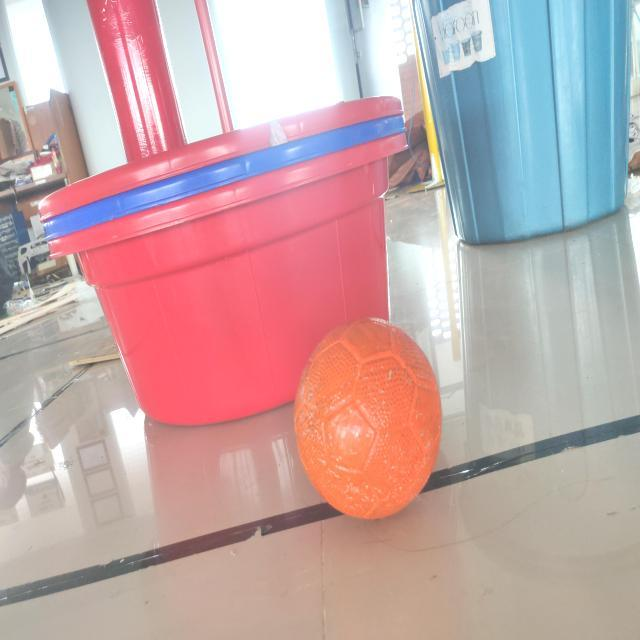bola: (286, 320, 452, 530)
